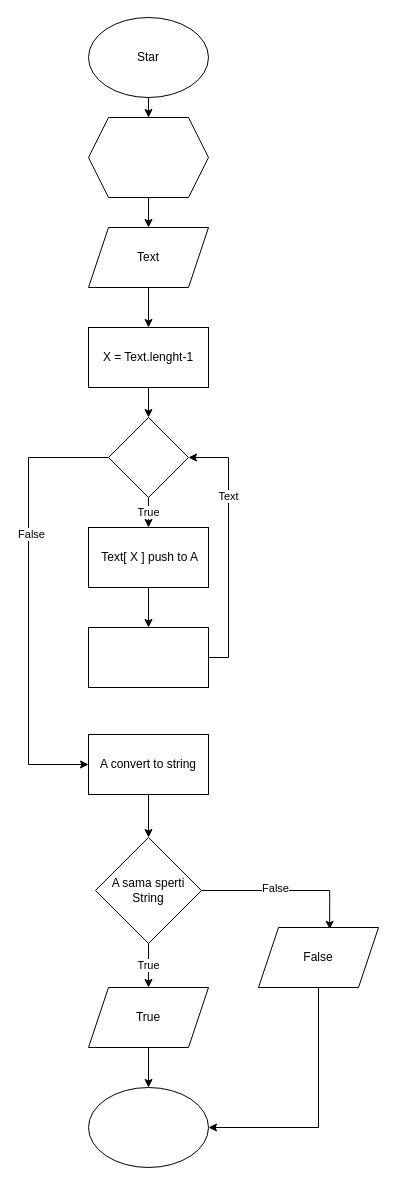
The diagram is 396 pixels wide and 1185 high, and some of its shapes have lost their labels. Here are the shapes that lost their labels. From the top down, the centre of each, then its label:
pixel 148 157: A = new Array
pixel 148 457: X>=0
pixel 148 657: X=X-1
pixel 148 1127: End
